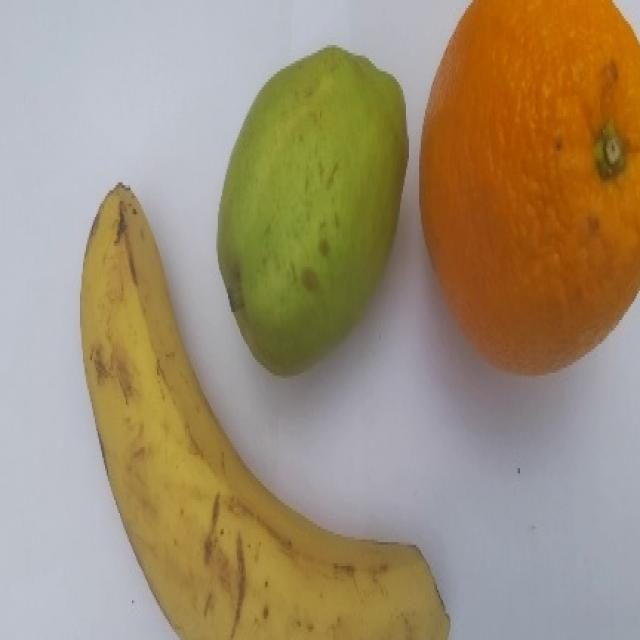Banana: (81, 180, 441, 640)
Orange: (421, 2, 640, 375)
